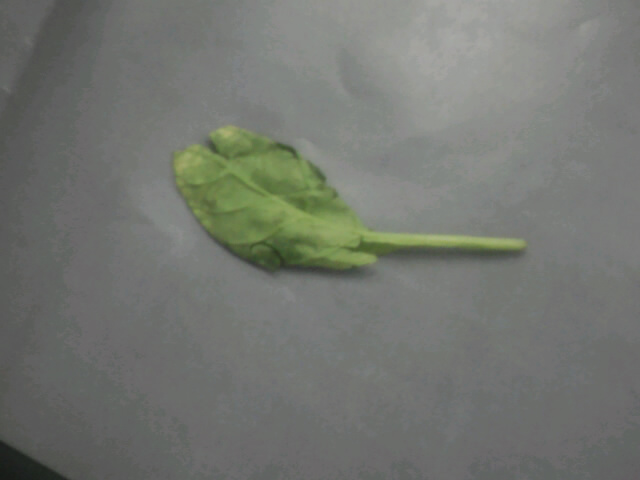yellow: (168, 111, 415, 306)
